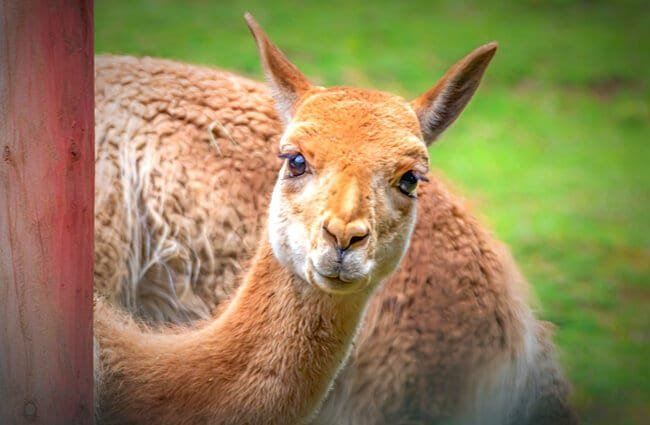eye: (262, 147, 316, 183), (387, 164, 426, 201)
mouth: (299, 239, 374, 304)
